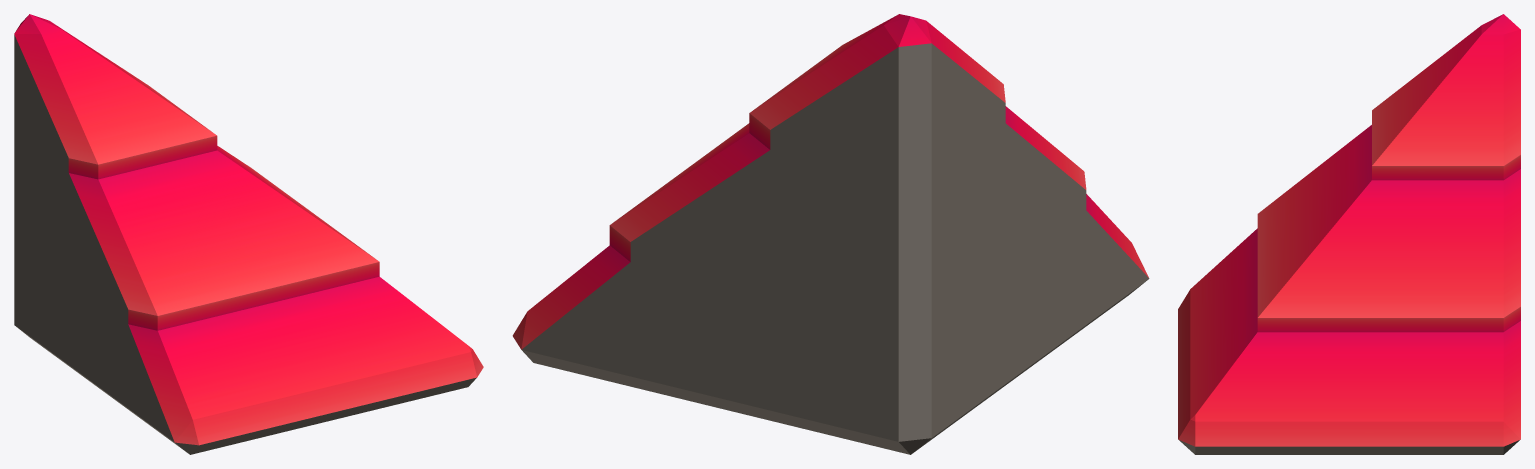
Rendered from m_kub_roofPink_cornerOut.FBX.
3 renders of one model, left to right at view 1: azimuth 30°, elevation 25°; view 2: azimuth 150°, elevation 25°; view 3: azimuth 270°, elevation 25°, orthographic. The views are drawn at different scales.
Parts seen in each view (by area): view 1: m_kub_roofPink_cornerOut; view 2: m_kub_roofPink_cornerOut; view 3: m_kub_roofPink_cornerOut.
Boxes of the visible parts, x1=… form: m_kub_roofPink_cornerOut: x1=14, y1=14, x2=483, y2=454; m_kub_roofPink_cornerOut: x1=512, y1=14, x2=1149, y2=454; m_kub_roofPink_cornerOut: x1=1178, y1=14, x2=1520, y2=454.
Size of the model in its own units: 2 by 2 by 2.
